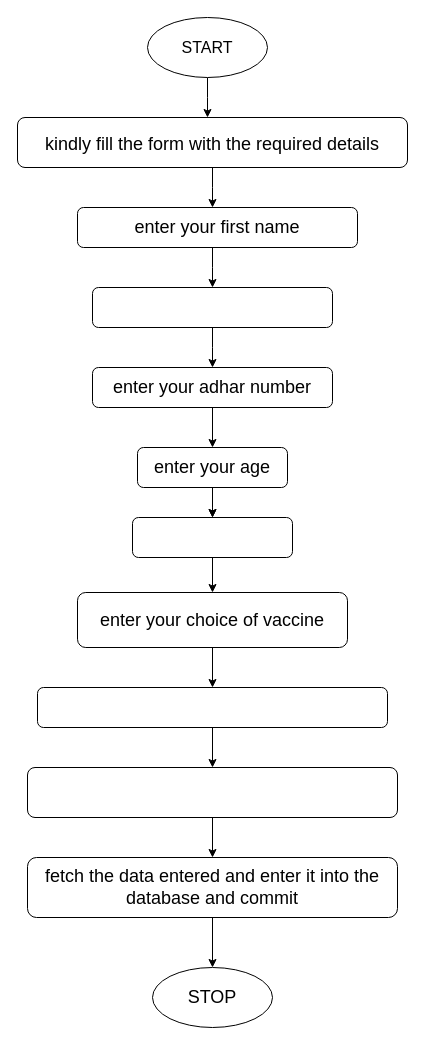
Image size: 425x1045. Some labels were removed from this diagram. The box of each missing label's shape, as (x1, y1, x2, y2) in pixels:
enter your gender: (132, 516, 292, 558)
enter your preferred vaccination centre: (36, 686, 388, 728)
enter your preferred vaccination slot: (26, 766, 398, 818)
enter your second name: (92, 286, 332, 328)
